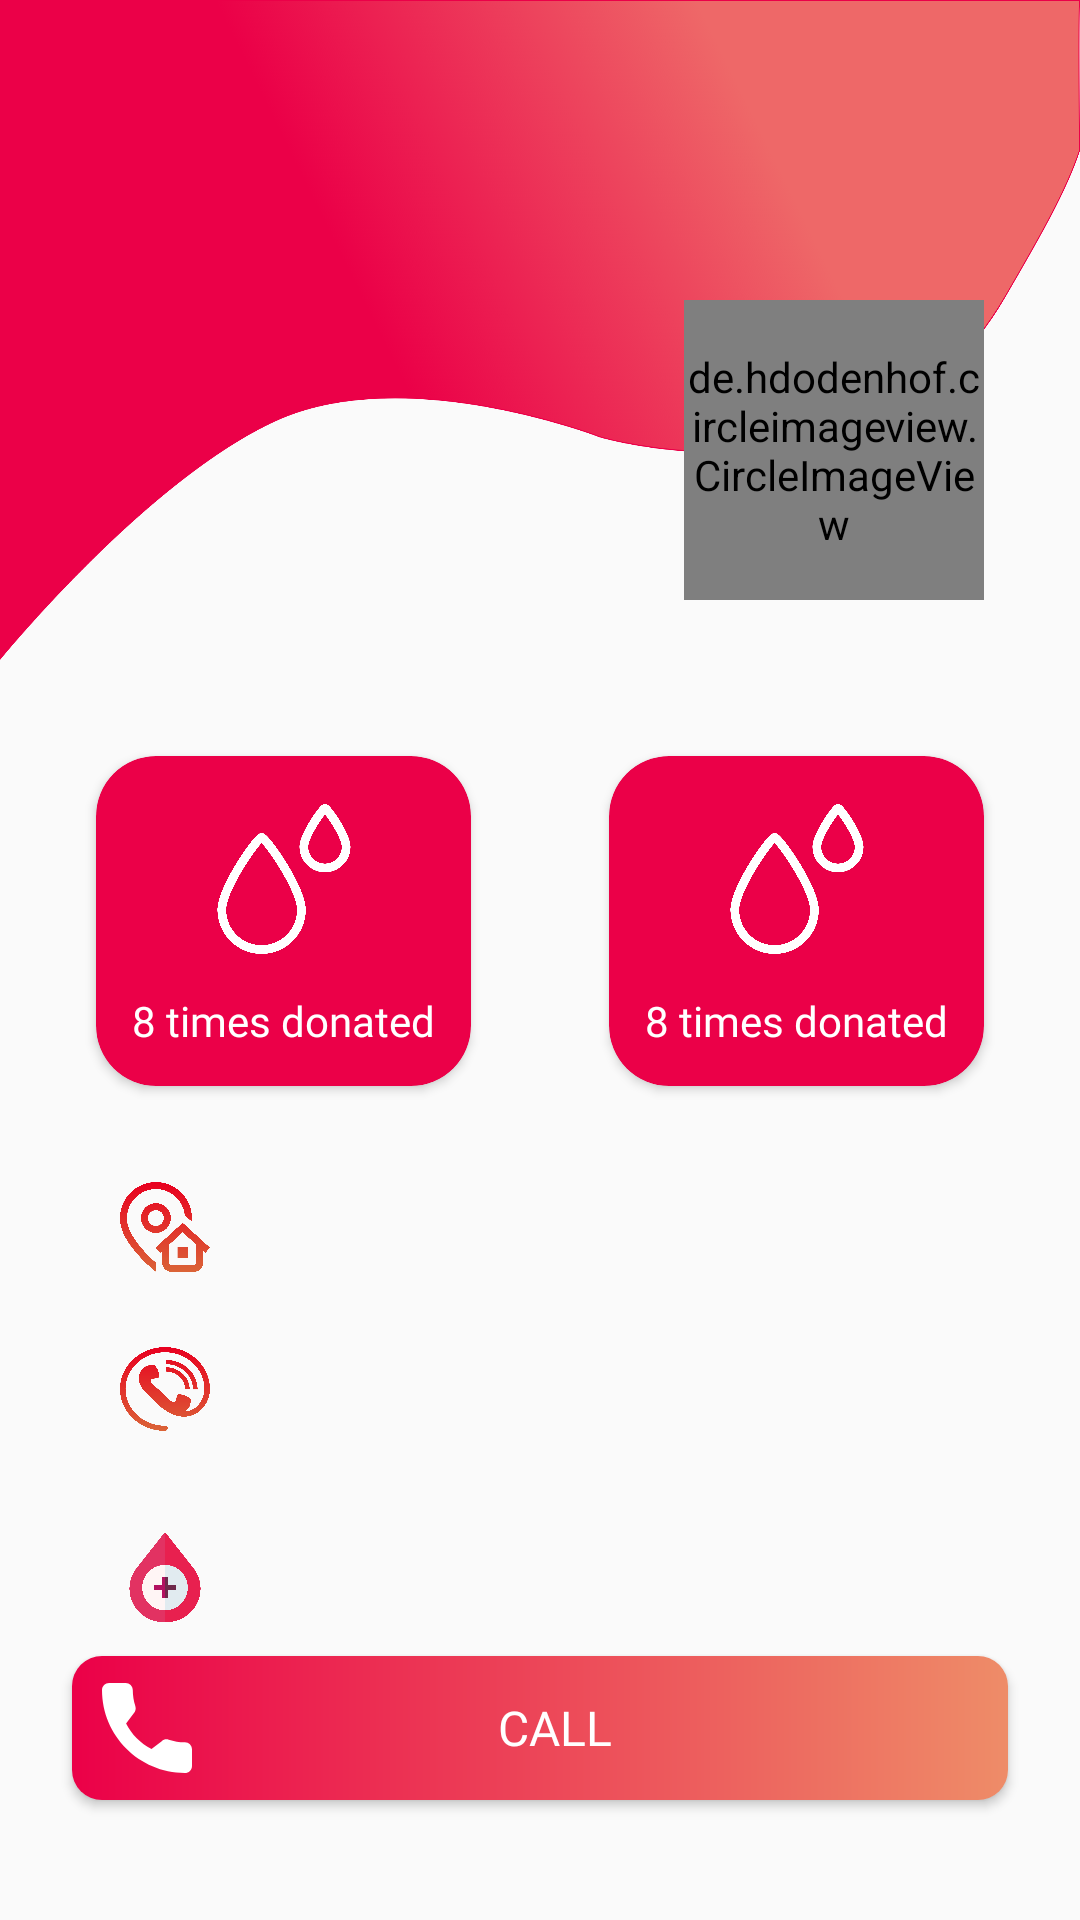

Named icons in this screenshot (1080w x 1920h) and their bounding boxes, (x1, y1, x2, y2):
address: (120, 1182, 210, 1272)
blood drop: (217, 804, 351, 954), (730, 804, 864, 954)
hospital: (129, 1533, 201, 1622)
phone: (120, 1347, 210, 1431)
